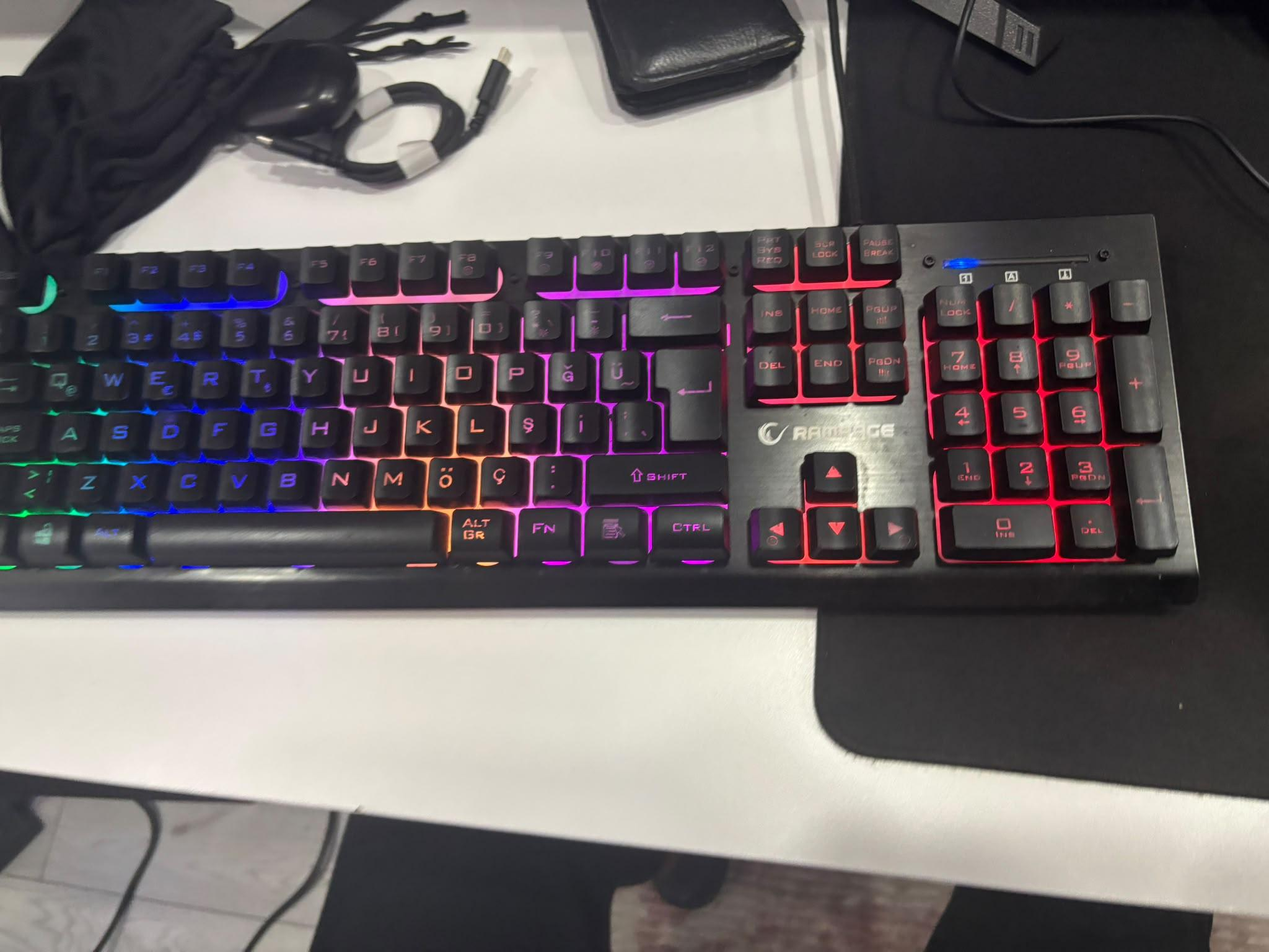cable: (947, 0, 1269, 192), (252, 47, 514, 188)
keyboard: (0, 213, 1201, 614)
mouse: (216, 38, 362, 143)
